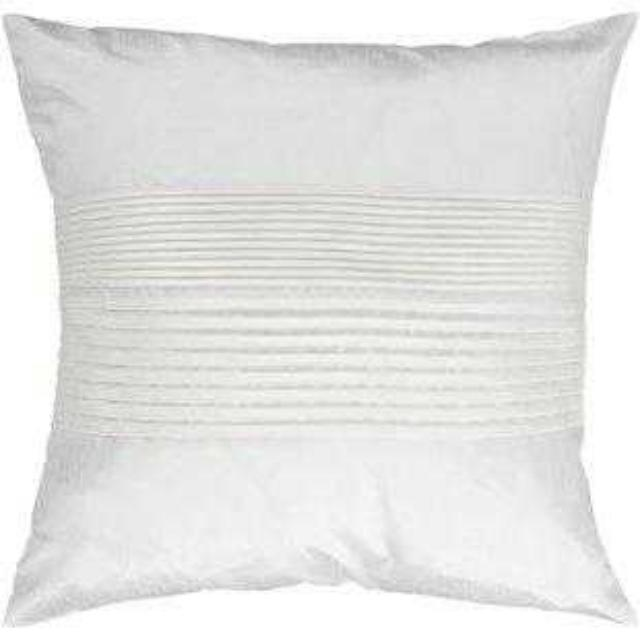pillow: (0, 7, 638, 630)
